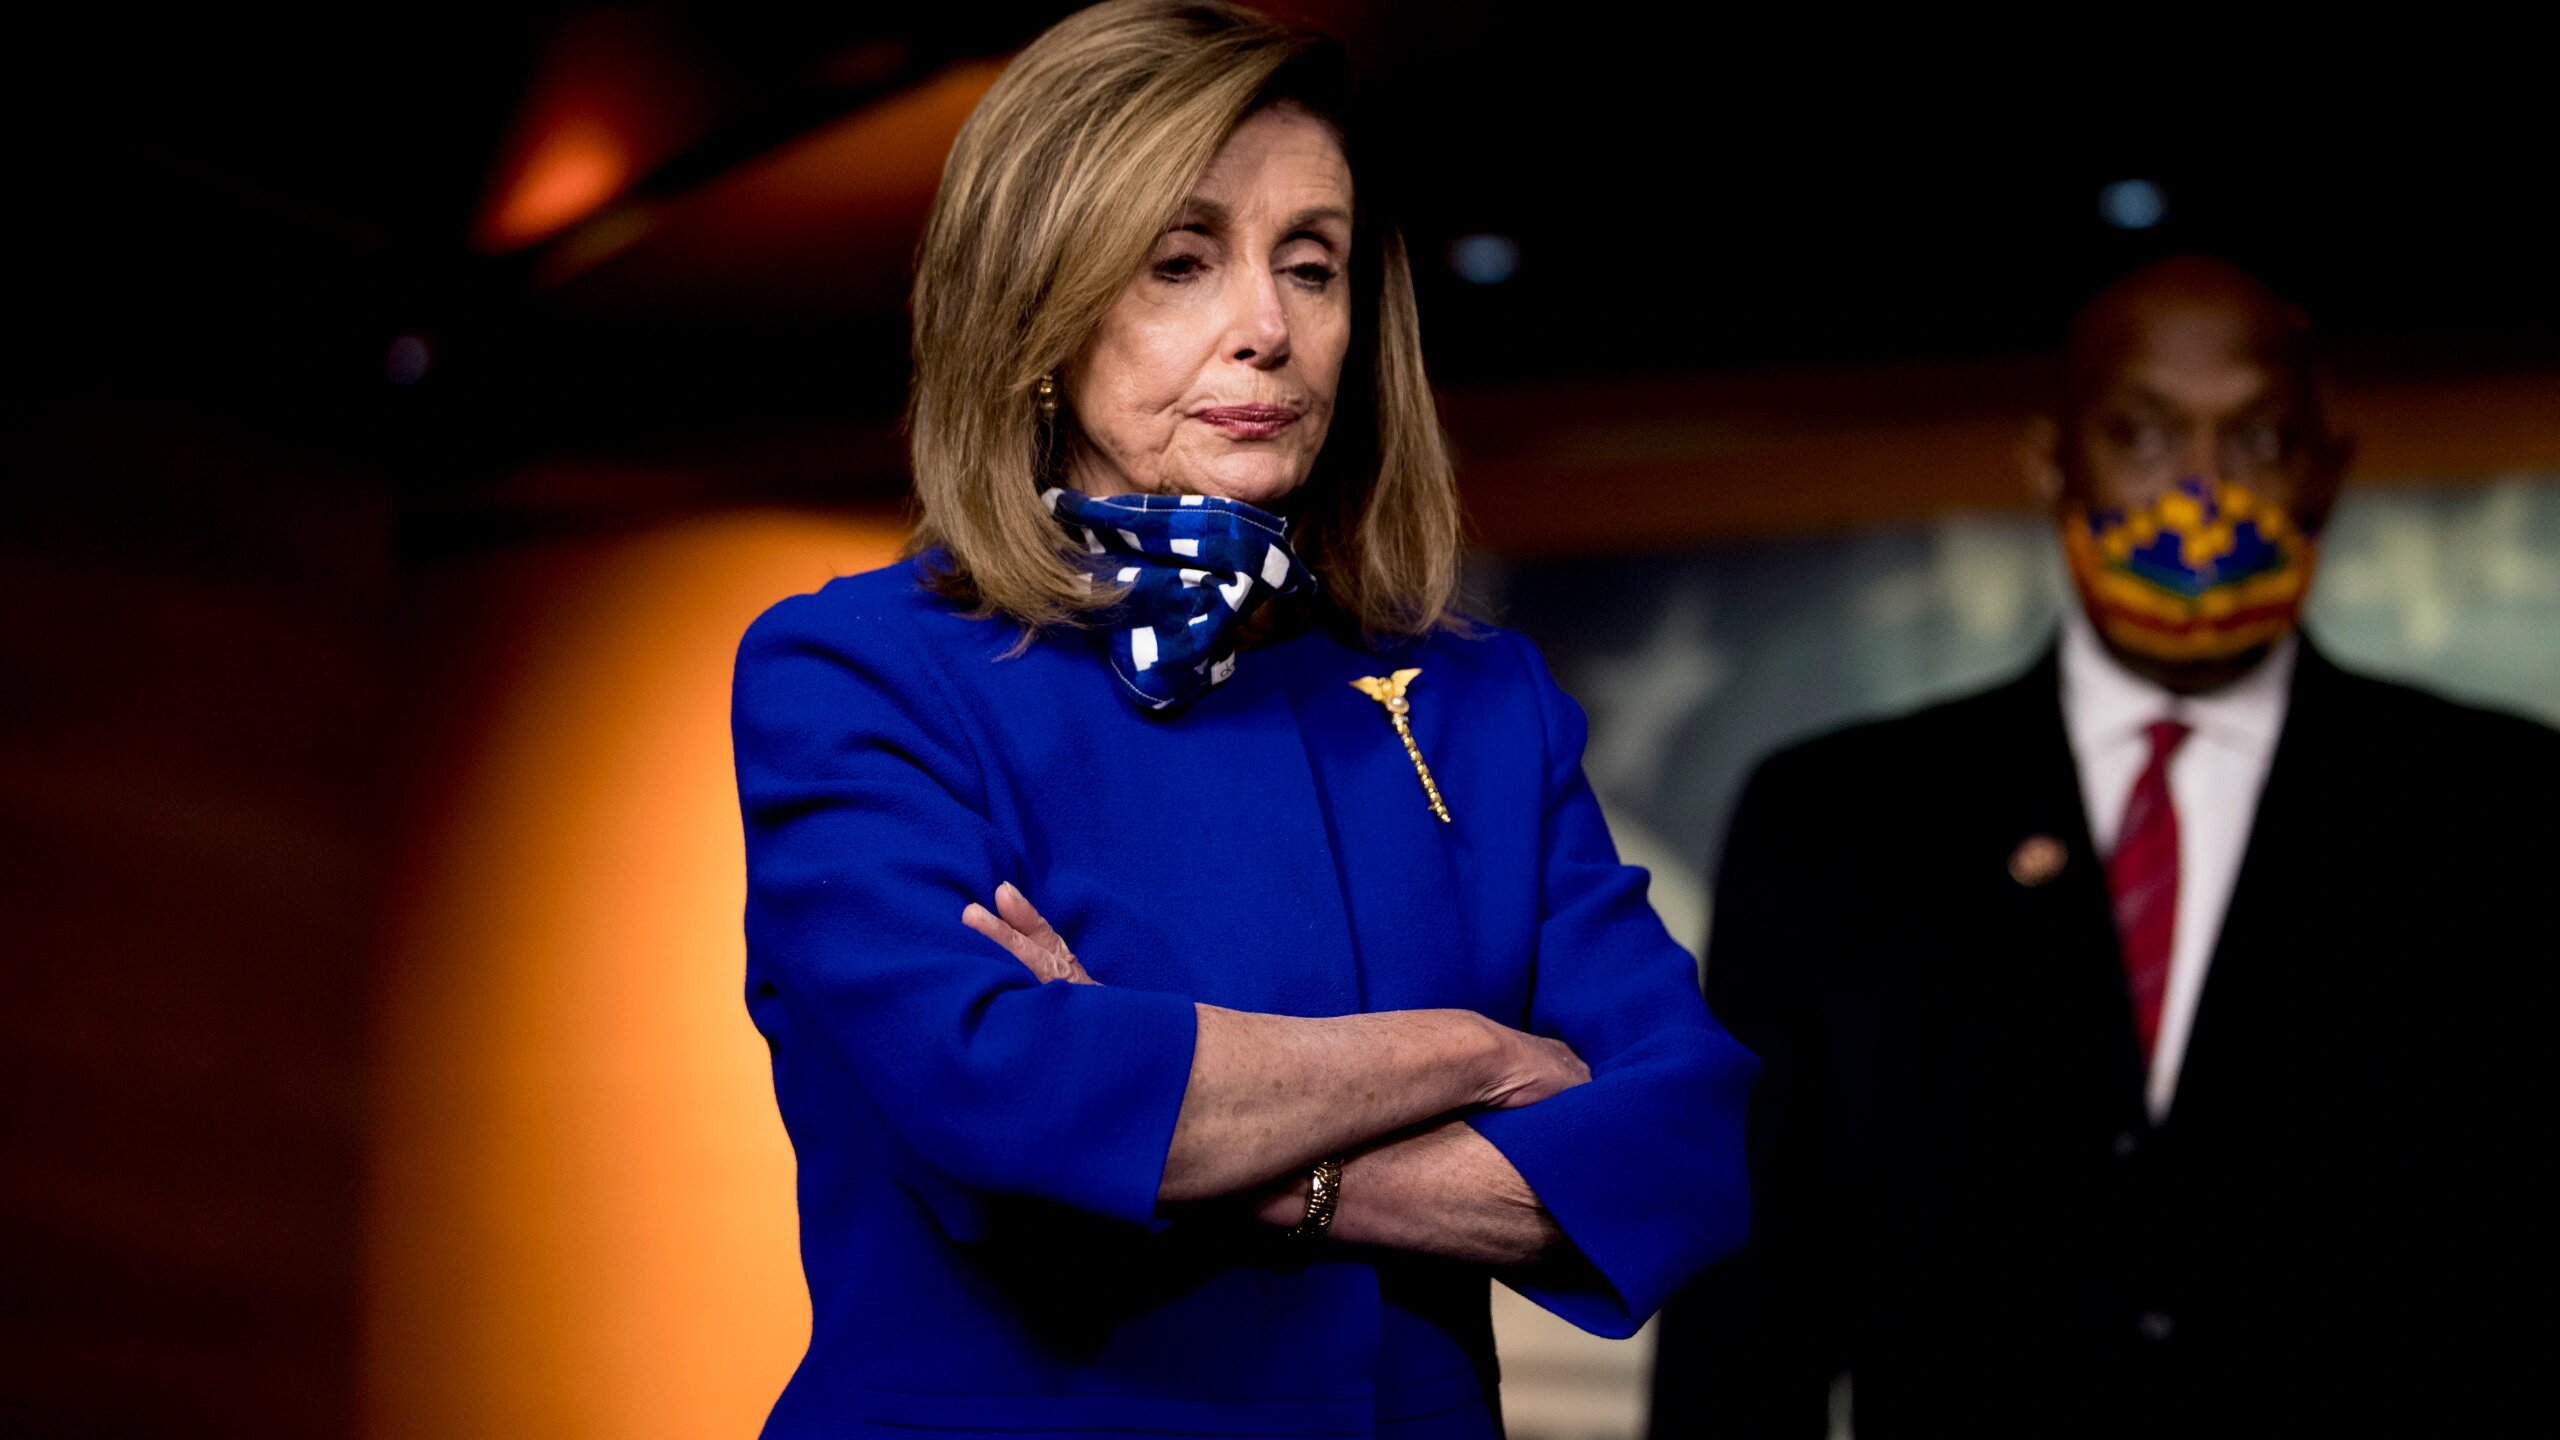with_incorrect_mask: (1032, 97, 1382, 653)
with_mask: (2031, 286, 2332, 671)
